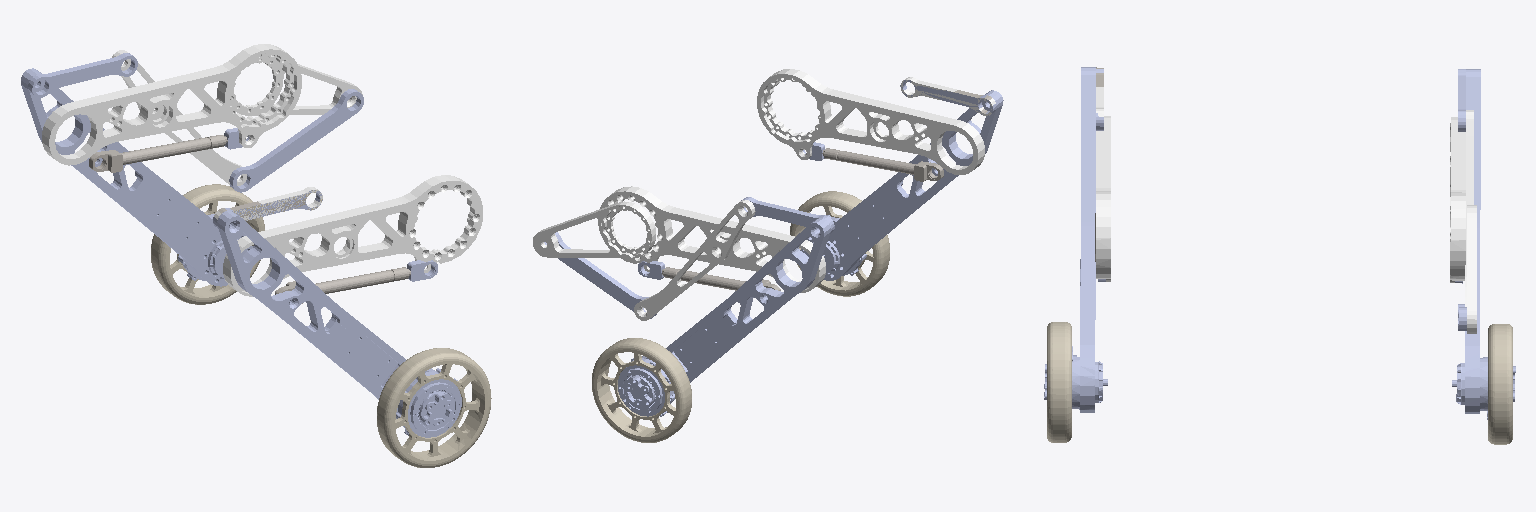
robot.urdf — urdf_v5.0:
<?xml version='1.0' encoding='utf-8'?>
<robot name="urdf_v5.0">
  <link name="base_link">
    <inertial>
      <origin xyz="-0.0091751 0.00028751 -0.049915" rpy="0 0 0" />
      <mass value="11.62" />
      <inertia ixx="0.178" ixy="-0.000264" ixz="-0.00412" iyy="0.126" iyz="-0.00049" izz="0.25526" />
    </inertial>
    <visual>
      <origin xyz="0 0 0" rpy="0 0 0" />
      <geometry>
        <mesh filename="../meshes/base_link.STL" />
      </geometry>
      <material name="">
        <color rgba="0.79216 0.81961 0.93333 1" />
      </material>
    </visual>
    <collision>
      <origin xyz="0 0 0" rpy="0 0 0" />
      <geometry>
        <mesh filename="../meshes/base_link.STL" />
      </geometry>
    </collision>
  </link>
  <link name="L_link1">
    <inertial>
      <origin xyz="-0.0033671 0.095035 -0.0074867" rpy="0 0 0" />
      <mass value="0.161" />
      <inertia ixx="0.000945" ixy="-2.2e-05" ixz="0" iyy="7.8e-05" iyz="0" izz="0.001" />
    </inertial>
    <visual>
      <origin xyz="0 0 0" rpy="0 0 0" />
      <geometry>
        <mesh filename="../meshes/L_link1.STL" />
      </geometry>
      <material name="">
        <color rgba="1 1 1 1" />
      </material>
    </visual>
    <collision>
      <origin xyz="0 0 0" rpy="0 0 0" />
      <geometry>
        <mesh filename="../meshes/L_link1.STL" />
      </geometry>
    </collision>
  </link>
  <joint name="L_joint1" type="continuous">
    <origin xyz="0 0.1838 -0.00083697" rpy="3.14159265359 1.56619265359 -1.57079265359" />
    <parent link="base_link" />
    <child link="L_link1" />
    <axis xyz="0 0 1" />
    <limit lower="-3.14" upper="3.14" effort="100" velocity="1" />
  </joint>
  <link name="L_link2">
    <inertial>
      <origin xyz="-8.3417e-05 0.15963 0.011927" rpy="0 0 0" />
      <mass value="0.45" />
      <inertia ixx="0.0049" ixy="-8.4e-05" ixz="0" iyy="0.000167" iyz="0.000191" izz="0.00496" />
    </inertial>
    <visual>
      <origin xyz="0 0 0" rpy="0 0 0" />
      <geometry>
        <mesh filename="../meshes/L_link2.STL" />
      </geometry>
      <material name="">
        <color rgba="0.79216 0.81961 0.93333 1" />
      </material>
    </visual>
    <collision>
      <origin xyz="0 0 0" rpy="0 0 0" />
      <geometry>
        <mesh filename="../meshes/L_link2.STL" />
      </geometry>
    </collision>
  </link>
  <joint name="L_joint2" type="continuous">
    <origin xyz="0 0.21 0" rpy="0 0 -2.3573" />
    <parent link="L_link1" />
    <child link="L_link2" />
    <axis xyz="0 0 1" />
    <limit lower="-3.14" upper="3.14" effort="100" velocity="1" />
  </joint>
  <link name="L_link3">
    <inertial>
      <origin xyz="0 0 0.020472" rpy="0 0 0" />
      <mass value="0.2" />
      <inertia ixx="0.000296" ixy="0" ixz="0" iyy="0.000296" iyz="0" izz="0.000575" />
    </inertial>
    <visual>
      <origin xyz="0 0 0" rpy="0 0 0" />
      <geometry>
        <mesh filename="../meshes/L_link3.STL" />
      </geometry>
      <material name="">
        <color rgba="0.84314 0.81569 0.75294 1" />
      </material>
    </visual>
    <collision>
      <origin xyz="0 0 0" rpy="0 0 0" />
      <geometry>
        <mesh filename="../meshes/L_link3.STL" />
      </geometry>
    </collision>
  </link>
  <joint name="L_joint3" type="continuous">
    <origin xyz="0 0.25 0.015" rpy="0 0 -1.5708" />
    <parent link="L_link2" />
    <child link="L_link3" />
    <axis xyz="0 0 1" />
    <limit lower="-3.14" upper="3.14" effort="100" velocity="1" />
  </joint>
  <link name="LLL_link2">
    <inertial>
      <origin xyz="0 0.070864 -0.0035025" rpy="0 0 0" />
      <mass value="0.057" />
      <inertia ixx="9.7e-05" ixy="0" ixz="0" iyy="1e-8" iyz="0" izz="9.7e-05" />
    </inertial>
    <visual>
      <origin xyz="0 0 0" rpy="0 0 0" />
      <geometry>
        <mesh filename="../meshes/LLL_link2.STL" />
      </geometry>
      <material name="">
        <color rgba="0.77647 0.75686 0.73725 1" />
      </material>
    </visual>
    <collision>
      <origin xyz="0 0 0" rpy="0 0 0" />
      <geometry>
        <mesh filename="../meshes/LLL_link2.STL" />
      </geometry>
    </collision>
  </link>
  <joint name="LLL_joint2" type="continuous">
    <origin xyz="-0.005 0.050754 -0.002" rpy="0 0 -0.72772" />
    <parent link="L_link2" />
    <child link="LLL_link2" />
    <axis xyz="0 0 1" />
    <limit lower="-3.14" upper="3.14" effort="100" velocity="1" />
  </joint>
  <link name="LLL_link1">
    <inertial>
      <origin xyz="0 0.049165 -0.0035738" rpy="0 0 0" />
      <mass value="0.035" />
      <inertia ixx="3e-05" ixy="0" ixz="0" iyy="1e-8" iyz="0" izz="3e-05" />
    </inertial>
    <visual>
      <origin xyz="0 0 0" rpy="0 0 0" />
      <geometry>
        <mesh filename="../meshes/LLL_link1.STL" />
      </geometry>
      <material name="">
        <color rgba="0.79216 0.81961 0.93333 1" />
      </material>
    </visual>
    <collision>
      <origin xyz="0 0 0" rpy="0 0 0" />
      <geometry>
        <mesh filename="../meshes/LLL_link1.STL" />
      </geometry>
    </collision>
  </link>
  <joint name="LLL_jointt1" type="continuous">
    <origin xyz="0.048559 0.01559 -0.002" rpy="0 0 0.056547" />
    <parent link="L_link1" />
    <child link="LLL_link1" />
    <axis xyz="0 0 1" />
    <limit lower="-3.14" upper="3.14" effort="100" velocity="1" />
  </joint>
  <link name="R_link1">
    <inertial>
      <origin xyz="-0.0033671 0.095035 0.0074867" rpy="0 0 0" />
      <mass value="0.161" />
      <inertia ixx="0.000945" ixy="-2.2e-05" ixz="0" iyy="7.8e-05" iyz="0" izz="0.001" />
    </inertial>
    <visual>
      <origin xyz="0 0 0" rpy="0 0 0" />
      <geometry>
        <mesh filename="../meshes/R_link1.STL" />
      </geometry>
      <material name="">
        <color rgba="1 1 1 1" />
      </material>
    </visual>
    <collision>
      <origin xyz="0 0 0" rpy="0 0 0" />
      <geometry>
        <mesh filename="../meshes/R_link1.STL" />
      </geometry>
    </collision>
  </link>
  <joint name="R_joint1" type="continuous">
    <origin xyz="0 -0.1828 0.00083241" rpy="3.14159265359 1.56619265359 -1.57079265359" />
    <parent link="base_link" />
    <child link="R_link1" />
    <axis xyz="0 0 -1" />
    <limit lower="-3.14" upper="3.14" effort="100" velocity="1" />
  </joint>
  <link name="R_link2">
    <inertial>
      <origin xyz="-8.3412e-05 0.15963 -0.011927" rpy="0 0 0" />
      <mass value="0.45" />
      <inertia ixx="0.0049" ixy="-8.4e-05" ixz="0" iyy="0.000167" iyz="-0.000191" izz="0.00496" />
    </inertial>
    <visual>
      <origin xyz="0 0 0" rpy="0 0 0" />
      <geometry>
        <mesh filename="../meshes/R_link2.STL" />
      </geometry>
      <material name="">
        <color rgba="0.79216 0.81961 0.93333 1" />
      </material>
    </visual>
    <collision>
      <origin xyz="0 0 0" rpy="0 0 0" />
      <geometry>
        <mesh filename="../meshes/R_link2.STL" />
      </geometry>
    </collision>
  </link>
  <joint name="R_jonit2" type="continuous">
    <origin xyz="0 0.21 0" rpy="0 0 -2.3573" />
    <parent link="R_link1" />
    <child link="R_link2" />
    <axis xyz="0 0 -1" />
    <limit lower="-3.14" upper="3.14" effort="100" velocity="1" />
  </joint>
  <link name="R_link3">
    <inertial>
      <origin xyz="0 0 -0.020472" rpy="0 0 0" />
      <mass value="0.2" />
      <inertia ixx="0.000296" ixy="0" ixz="0" iyy="0.000296" iyz="0" izz="0.000575" />
    </inertial>
    <visual>
      <origin xyz="0 0 0" rpy="0 0 0" />
      <geometry>
        <mesh filename="../meshes/R_link3.STL" />
      </geometry>
      <material name="">
        <color rgba="0.84314 0.81569 0.75294 1" />
      </material>
    </visual>
    <collision>
      <origin xyz="0 0 0" rpy="0 0 0" />
      <geometry>
        <mesh filename="../meshes/R_link3.STL" />
      </geometry>
    </collision>
  </link>
  <joint name="R_joint3" type="continuous">
    <origin xyz="0 0.25 -0.015" rpy="0 0 3.14158530718" />
    <parent link="R_link2" />
    <child link="R_link3" />
    <axis xyz="0 0 -1" />
    <limit lower="-3.14" upper="3.14" effort="100" velocity="1" />
  </joint>
  <link name="RRR_link2">
    <inertial>
      <origin xyz="0 0.070864 0.0035025" rpy="0 0 0" />
      <mass value="0.057" />
      <inertia ixx="9.7e-05" ixy="0" ixz="0" iyy="1e-8" iyz="0" izz="9.7e-05" />
    </inertial>
    <visual>
      <origin xyz="0 0 0" rpy="0 0 0" />
      <geometry>
        <mesh filename="../meshes/RRR_link2.STL" />
      </geometry>
      <material name="">
        <color rgba="0.77647 0.75686 0.73725 1" />
      </material>
    </visual>
    <collision>
      <origin xyz="0 0 0" rpy="0 0 0" />
      <geometry>
        <mesh filename="../meshes/RRR_link2.STL" />
      </geometry>
    </collision>
  </link>
  <joint name="RRR_joint2" type="continuous">
    <origin xyz="-0.005 0.050754 0.002" rpy="0 0 -0.72772" />
    <parent link="R_link2" />
    <child link="RRR_link2" />
    <axis xyz="0 0 -1" />
    <limit lower="-3.14" upper="3.14" effort="100" velocity="1" />
  </joint>
  <link name="RRR_link1">
    <inertial>
      <origin xyz="0 0.049165 0.0035738" rpy="0 0 0" />
      <mass value="0.035" />
      <inertia ixx="3e-05" ixy="0" ixz="0" iyy="1e-8" iyz="0" izz="3e-05" />
    </inertial>
    <visual>
      <origin xyz="0 0 0" rpy="0 0 0" />
      <geometry>
        <mesh filename="../meshes/RRR_link1.STL" />
      </geometry>
      <material name="">
        <color rgba="0.79216 0.81961 0.93333 1" />
      </material>
    </visual>
    <collision>
      <origin xyz="0 0 0" rpy="0 0 0" />
      <geometry>
        <mesh filename="../meshes/RRR_link1.STL" />
      </geometry>
    </collision>
  </link>
  <joint name="RRR_joint1" type="continuous">
    <origin xyz="0.048559 0.01559 0.002" rpy="0 0 0.056547" />
    <parent link="R_link1" />
    <child link="RRR_link1" />
    <axis xyz="0 0 -1" />
    <limit lower="-3.14" upper="3.14" effort="100" velocity="1" />
  </joint>
  <link name="LL_link1">
    <inertial>
      <origin xyz="0 0.051943 -0.0053948" rpy="0 0 0" />
      <mass value="0.041" />
      <inertia ixx="9.4e-05" ixy="0" ixz="0" iyy="1.4e-05" iyz="0" izz="0.000107" />
    </inertial>
    <visual>
      <origin xyz="0 0 0" rpy="0 0 0" />
      <geometry>
        <mesh filename="../meshes/LL_link1.STL" />
      </geometry>
      <material name="">
        <color rgba="1 1 1 1" />
      </material>
    </visual>
    <collision>
      <origin xyz="0 0 0" rpy="0 0 0" />
      <geometry>
        <mesh filename="../meshes/LL_link1.STL" />
      </geometry>
    </collision>
  </link>
  <joint name="LL_joint1" type="continuous">
    <origin xyz="0 0.195 -0.00088797" rpy="-1.58344739843 -1.20100530796 0.0117644637867" />
    <parent link="base_link" />
    <child link="LL_link1" />
    <axis xyz="0 0 1" />
    <limit lower="-3.14" upper="3.14" effort="100" velocity="1" />
  </joint>
  <link name="LL_link2">
    <inertial>
      <origin xyz="0.0031995 0.0675 -0.014" rpy="0 0 0" />
      <mass value="0.084" />
      <inertia ixx="0.000157" ixy="0" ixz="0" iyy="1e-8" iyz="0" izz="0.000157" />
    </inertial>
    <visual>
      <origin xyz="0 0 0" rpy="0 0 0" />
      <geometry>
        <mesh filename="../meshes/LL_link2.STL" />
      </geometry>
      <material name="">
        <color rgba="0.79216 0.81961 0.93333 1" />
      </material>
    </visual>
    <collision>
      <origin xyz="0 0 0" rpy="0 0 0" />
      <geometry>
        <mesh filename="../meshes/LL_link2.STL" />
      </geometry>
    </collision>
  </link>
  <joint name="LL_joint2" type="continuous">
    <origin xyz="0 0.1134 0" rpy="0 0 2.3573" />
    <parent link="LL_link1" />
    <child link="LL_link2" />
    <axis xyz="0 0 1" />
    <limit lower="-3.14" upper="3.14" effort="100" velocity="1" />
  </joint>
  <link name="LL_link3">
    <inertial>
      <origin xyz="0.0046889 0.098135 -0.0072398" rpy="0 0 0" />
      <mass value="0.041" />
      <inertia ixx="0.000172" ixy="0" ixz="0" iyy="1e-8" iyz="0" izz="0.000174" />
    </inertial>
    <visual>
      <origin xyz="0 0 0" rpy="0 0 0" />
      <geometry>
        <mesh filename="../meshes/LL_link3.STL" />
      </geometry>
      <material name="">
        <color rgba="1 1 1 1" />
      </material>
    </visual>
    <collision>
      <origin xyz="0 0 0" rpy="0 0 0" />
      <geometry>
        <mesh filename="../meshes/LL_link3.STL" />
      </geometry>
    </collision>
  </link>
  <joint name="LL_joint3" type="continuous">
    <origin xyz="0 0.135 0" rpy="0 0 1.2842" />
    <parent link="LL_link2" />
    <child link="LL_link3" />
    <axis xyz="0 0 1" />
    <limit lower="-3.14" upper="3.14" effort="100" velocity="1" />
  </joint>
  <link name="LL_link4">
    <inertial>
      <origin xyz="-0.0014867 0.048484 -0.015201" rpy="0 0 0" />
      <mass value="0.064" />
      <inertia ixx="6.3e-05" ixy="0" ixz="0" iyy="1e-8" iyz="0" izz="6.4e-05" />
    </inertial>
    <visual>
      <origin xyz="0 0 0" rpy="0 0 0" />
      <geometry>
        <mesh filename="../meshes/LL_link4.STL" />
      </geometry>
      <material name="">
        <color rgba="0.79216 0.81961 0.93333 1" />
      </material>
    </visual>
    <collision>
      <origin xyz="0 0 0" rpy="0 0 0" />
      <geometry>
        <mesh filename="../meshes/LL_link4.STL" />
      </geometry>
    </collision>
  </link>
  <joint name="LL_link4" type="continuous">
    <origin xyz="0 0.20051 0" rpy="0 0 -0.86973" />
    <parent link="LL_link3" />
    <child link="LL_link4" />
    <axis xyz="0 0 1" />
    <limit lower="-3.14" upper="3.14" effort="100" velocity="1" />
  </joint>
  <link name="RR_link1">
    <inertial>
      <origin xyz="0 0.051943 0.0046052" rpy="0 0 0" />
      <mass value="0.041" />
      <inertia ixx="9.4e-05" ixy="0" ixz="0" iyy="1.4e-05" iyz="0" izz="0.000107" />
    </inertial>
    <visual>
      <origin xyz="0 0 0" rpy="0 0 0" />
      <geometry>
        <mesh filename="../meshes/RR_link1.STL" />
      </geometry>
      <material name="">
        <color rgba="1 1 1 1" />
      </material>
    </visual>
    <collision>
      <origin xyz="0 0 0" rpy="0 0 0" />
      <geometry>
        <mesh filename="../meshes/RR_link1.STL" />
      </geometry>
    </collision>
  </link>
  <joint name="RR_joint1" type="continuous">
    <origin xyz="0 -0.194 0.00088342" rpy="-1.58344739843 -1.20100530796 0.0117644637867" />
    <parent link="base_link" />
    <child link="RR_link1" />
    <axis xyz="0 0 -1" />
    <limit lower="-3.14" upper="3.14" effort="100" velocity="1" />
  </joint>
  <link name="RR_link2">
    <inertial>
      <origin xyz="0.0031995 0.0675 0.014" rpy="0 0 0" />
      <mass value="0.84" />
      <inertia ixx="0.000157" ixy="0" ixz="0" iyy="1e-8" iyz="0" izz="0.000157" />
    </inertial>
    <visual>
      <origin xyz="0 0 0" rpy="0 0 0" />
      <geometry>
        <mesh filename="../meshes/RR_link2.STL" />
      </geometry>
      <material name="">
        <color rgba="0.79216 0.81961 0.93333 1" />
      </material>
    </visual>
    <collision>
      <origin xyz="0 0 0" rpy="0 0 0" />
      <geometry>
        <mesh filename="../meshes/RR_link2.STL" />
      </geometry>
    </collision>
  </link>
  <joint name="RR_joint2" type="continuous">
    <origin xyz="0 0.1134 0" rpy="0 0 2.3573" />
    <parent link="RR_link1" />
    <child link="RR_link2" />
    <axis xyz="0 0 -1" />
    <limit lower="-3.14" upper="3.14" effort="100" velocity="1" />
  </joint>
  <link name="RR_link3">
    <inertial>
      <origin xyz="0.0046889 0.098135 0.0071602" rpy="0 0 0" />
      <mass value="0.041" />
      <inertia ixx="0.000171" ixy="0" ixz="0" iyy="1e-8" iyz="0" izz="0.000174" />
    </inertial>
    <visual>
      <origin xyz="0 0 0" rpy="0 0 0" />
      <geometry>
        <mesh filename="../meshes/RR_link3.STL" />
      </geometry>
      <material name="">
        <color rgba="1 1 1 1" />
      </material>
    </visual>
    <collision>
      <origin xyz="0 0 0" rpy="0 0 0" />
      <geometry>
        <mesh filename="../meshes/RR_link3.STL" />
      </geometry>
    </collision>
  </link>
  <joint name="RR_joint3" type="continuous">
    <origin xyz="0 0.135 0" rpy="0 0 1.2842" />
    <parent link="RR_link2" />
    <child link="RR_link3" />
    <axis xyz="0 0 -1" />
    <limit lower="-3.14" upper="3.14" effort="100" velocity="1" />
  </joint>
  <link name="RR_link4">
    <inertial>
      <origin xyz="-0.0014867 0.048484 0.015199" rpy="0 0 0" />
      <mass value="0.064" />
      <inertia ixx="6.3e-05" ixy="0" ixz="0" iyy="1e-8" iyz="0" izz="6.4e-05" />
    </inertial>
    <visual>
      <origin xyz="0 0 0" rpy="0 0 0" />
      <geometry>
        <mesh filename="../meshes/RR_link4.STL" />
      </geometry>
      <material name="">
        <color rgba="0.79216 0.81961 0.93333 1" />
      </material>
    </visual>
    <collision>
      <origin xyz="0 0 0" rpy="0 0 0" />
      <geometry>
        <mesh filename="../meshes/RR_link4.STL" />
      </geometry>
    </collision>
  </link>
  <joint name="RR_joint4" type="continuous">
    <origin xyz="0 0.20051 0" rpy="0 0 -0.86973" />
    <parent link="RR_link3" />
    <child link="RR_link4" />
    <axis xyz="0 0 -1" />
    <limit lower="-3.14" upper="3.14" effort="100" velocity="1" />
  </joint>
  <loop_joint name="L_four_bar_closure" type="revolute">
    <link1 link="LL_link4" xyz="0.00827712 -0.00724487 -0.36980174" rpy="0 0 0" />
    <link2 link="L_link3" xyz="0.23542012 0.08457446 -0.37359826" rpy="0 0 0" />
  </loop_joint>
  <loop_joint name="R_four_bar_closure" type="revolute">
    <link1 link="RR_link4" xyz="0.005651 -0.00943867 0.01919846" rpy="3.14159265359 0 0" />
    <link2 link="R_link3" xyz="-0.08800131 0.23572013 0.02300155" rpy="3.14159265359 0 0" />
  </loop_joint>
</robot>

--- What the picture shows (computed from the rendered views, not written in the file) ---
The picture shows the robot from 3 angles, left to right: view 1: azimuth 30°, elevation 25°; view 2: azimuth 150°, elevation 25°; view 3: azimuth 270°, elevation 25°; orthographic projection.
Model urdf_v5.0 with 19 links and 18 joints (18 continuous), rooted at base_link, posed every joint at zero.
Visible links, largest first — view 1: R_link2, L_link1, R_link1, L_link2, R_link3, L_link3, LL_link2, LL_link1, LLL_link2, LL_link4, LL_link3, RRR_link2 (+1 smaller); view 2: L_link2, R_link1, R_link2, L_link1, L_link3, LL_link1, LL_link3, R_link3, LL_link2, RRR_link2, LL_link4, LLL_link2; view 3: R_link2, L_link2, R_link3, L_link3, L_link1, R_link1, LL_link1, LL_link3.
Link boxes in pixels (bbox=[...]): R_link2: bbox=[217, 190, 461, 437]; L_link1: bbox=[42, 44, 317, 207]; R_link1: bbox=[223, 175, 482, 296]; L_link2: bbox=[21, 68, 256, 286]; R_link3: bbox=[234, 190, 491, 467]; L_link3: bbox=[151, 184, 264, 304]; LL_link2: bbox=[229, 89, 363, 192]; LL_link1: bbox=[214, 56, 362, 219]; LLL_link2: bbox=[89, 135, 260, 213]; LL_link4: bbox=[28, 53, 319, 227]; LL_link3: bbox=[112, 50, 246, 185]; RRR_link2: bbox=[241, 190, 410, 303]; L_link2: bbox=[618, 95, 989, 416]; R_link1: bbox=[757, 69, 984, 174]; R_link2: bbox=[800, 90, 1003, 280]; L_link1: bbox=[598, 77, 956, 292]; L_link3: bbox=[592, 338, 691, 442]; LL_link1: bbox=[533, 80, 995, 257]; LL_link3: bbox=[634, 81, 991, 320]; R_link3: bbox=[790, 191, 889, 296]; LL_link2: bbox=[544, 80, 992, 318]; RRR_link2: bbox=[822, 148, 943, 181]; LL_link4: bbox=[741, 80, 996, 233]; LLL_link2: bbox=[662, 90, 991, 290]; R_link2: bbox=[1044, 67, 1107, 412]; L_link2: bbox=[1096, 69, 1515, 419]; R_link3: bbox=[1047, 322, 1071, 442]; L_link3: bbox=[1488, 324, 1512, 444]; L_link1: bbox=[1096, 87, 1465, 282]; R_link1: bbox=[1096, 116, 1110, 281]; LL_link1: bbox=[1467, 205, 1476, 333]; LL_link3: bbox=[1465, 110, 1473, 306].
Bounding box of the posed robot: 0.3754 × 0.4674 × 0.3073 m (x, y, z).
14 mesh visuals loaded from 19 distinct referenced files (14 binary STL); not drawn: 4 (reference not matched to a file when rendering), 1 (file found but could not be loaded).
